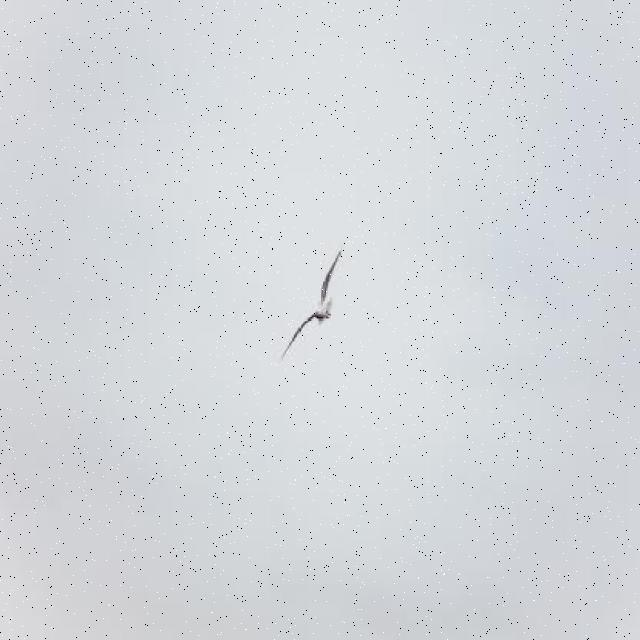bird: (280, 244, 346, 364)
